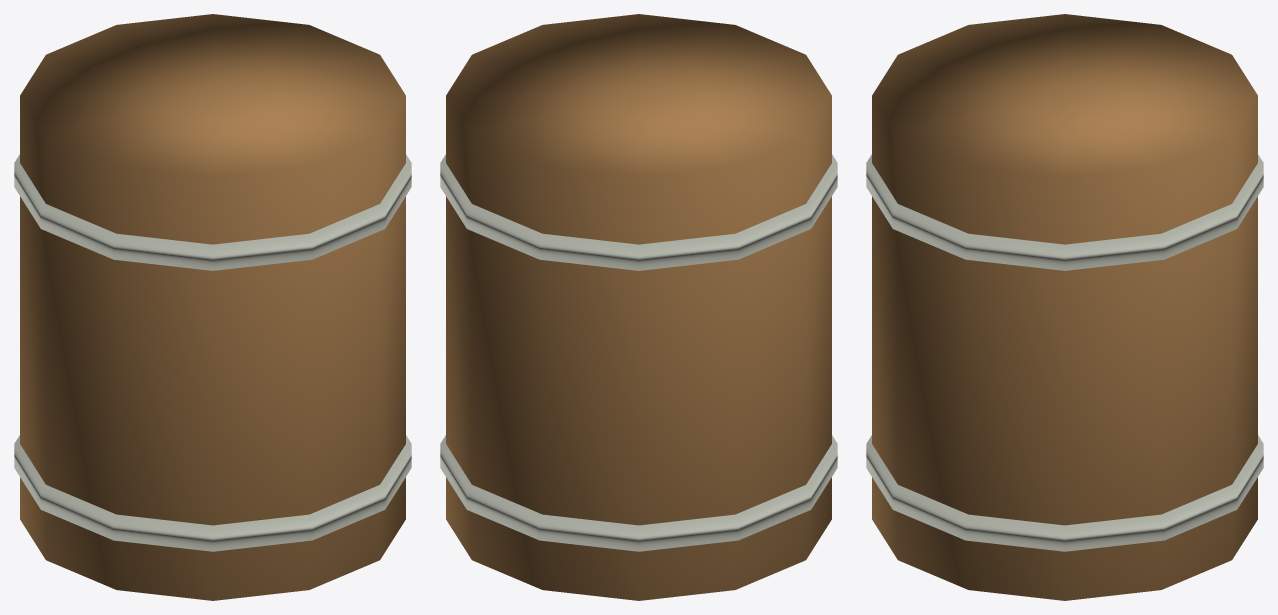
File: barrel.glb
The picture shows the model from 3 angles, left to right: view 1: azimuth 30°, elevation 25°; view 2: azimuth 150°, elevation 25°; view 3: azimuth 270°, elevation 25°; orthographic projection.
Visible parts, largest first — view 1: staves, band (×2); view 2: staves, band (×2); view 3: staves, band (×2).
Boxes of the visible parts, x1,y1,x2,y2 form: staves: (20, 14, 405, 600); band (×2): (14, 154, 411, 551); staves: (446, 14, 831, 600); band (×2): (440, 154, 837, 551); staves: (872, 14, 1257, 600); band (×2): (866, 154, 1263, 551).
Bounding box in the file's own units: 0.68 × 0.8 × 0.68.
